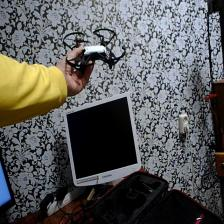drone: (62, 23, 128, 74)
